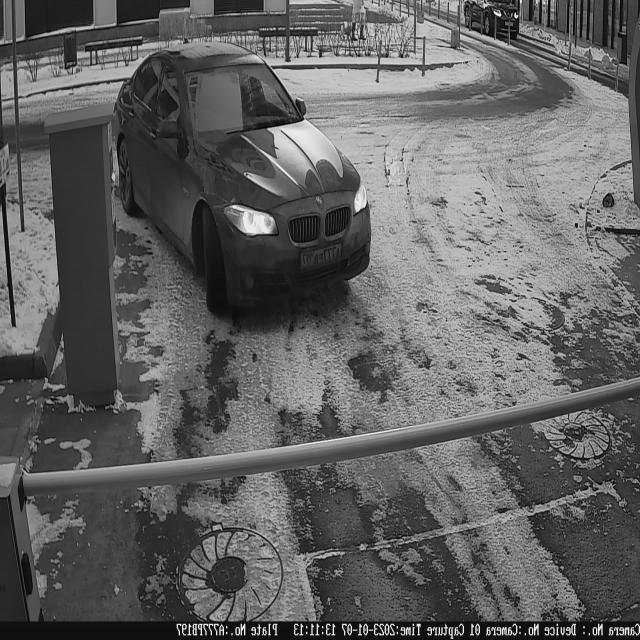car-plate-numbers: (299, 236, 349, 280)
